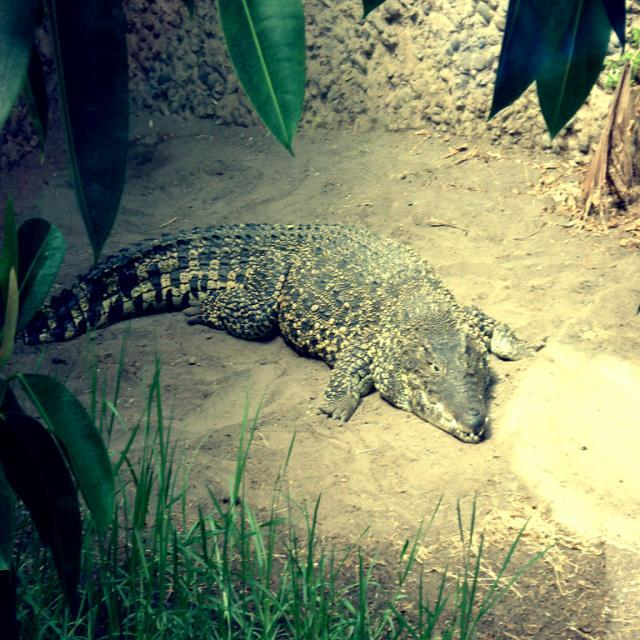crocodile: (13, 199, 562, 468)
